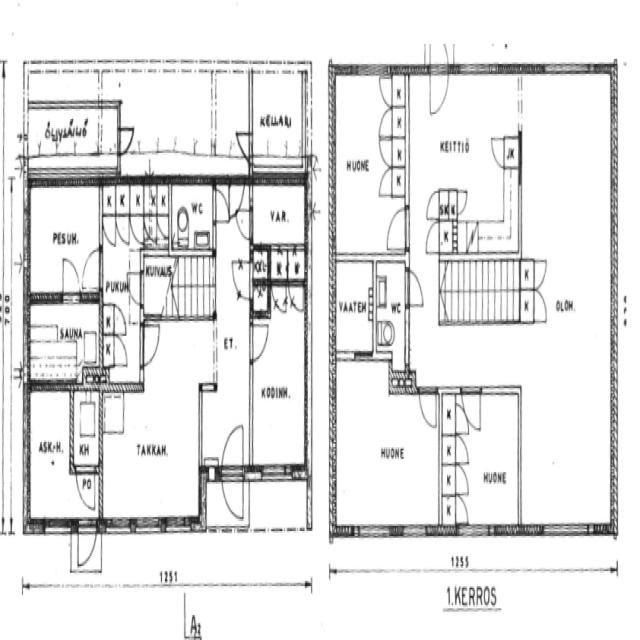door: (460, 385, 482, 443), (222, 468, 242, 527), (222, 424, 242, 483), (429, 22, 448, 76), (429, 63, 448, 117), (385, 206, 408, 250), (78, 520, 96, 574), (141, 322, 163, 365), (418, 385, 437, 434), (75, 466, 94, 514), (80, 247, 102, 288), (62, 255, 80, 302), (228, 172, 244, 222), (250, 326, 271, 364), (234, 200, 254, 238), (404, 271, 425, 307), (124, 267, 144, 304), (213, 190, 233, 226), (117, 121, 136, 155), (234, 130, 253, 164)
